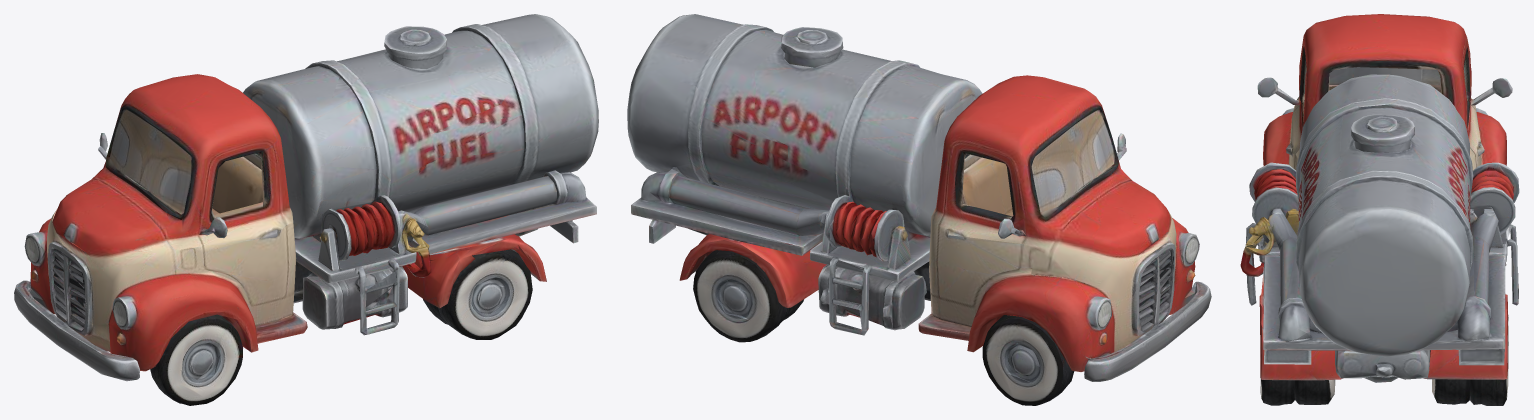
The model's file is fuelTruck.glb.
3 renders of one model, left to right at view 1: azimuth 30°, elevation 25°; view 2: azimuth 150°, elevation 25°; view 3: azimuth 270°, elevation 25°, orthographic.
Size of the model in its own units: 1.9 by 0.9554 by 0.8911.
Materials: 1 (1 with a texture image).
